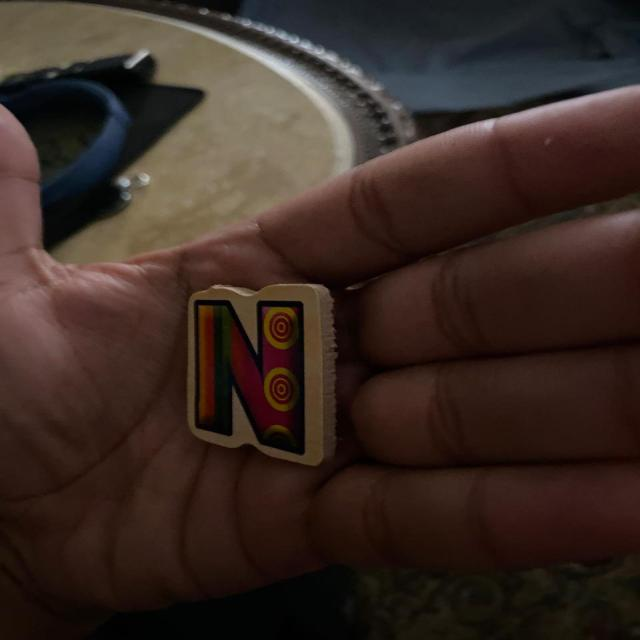N: (187, 283, 335, 465)
